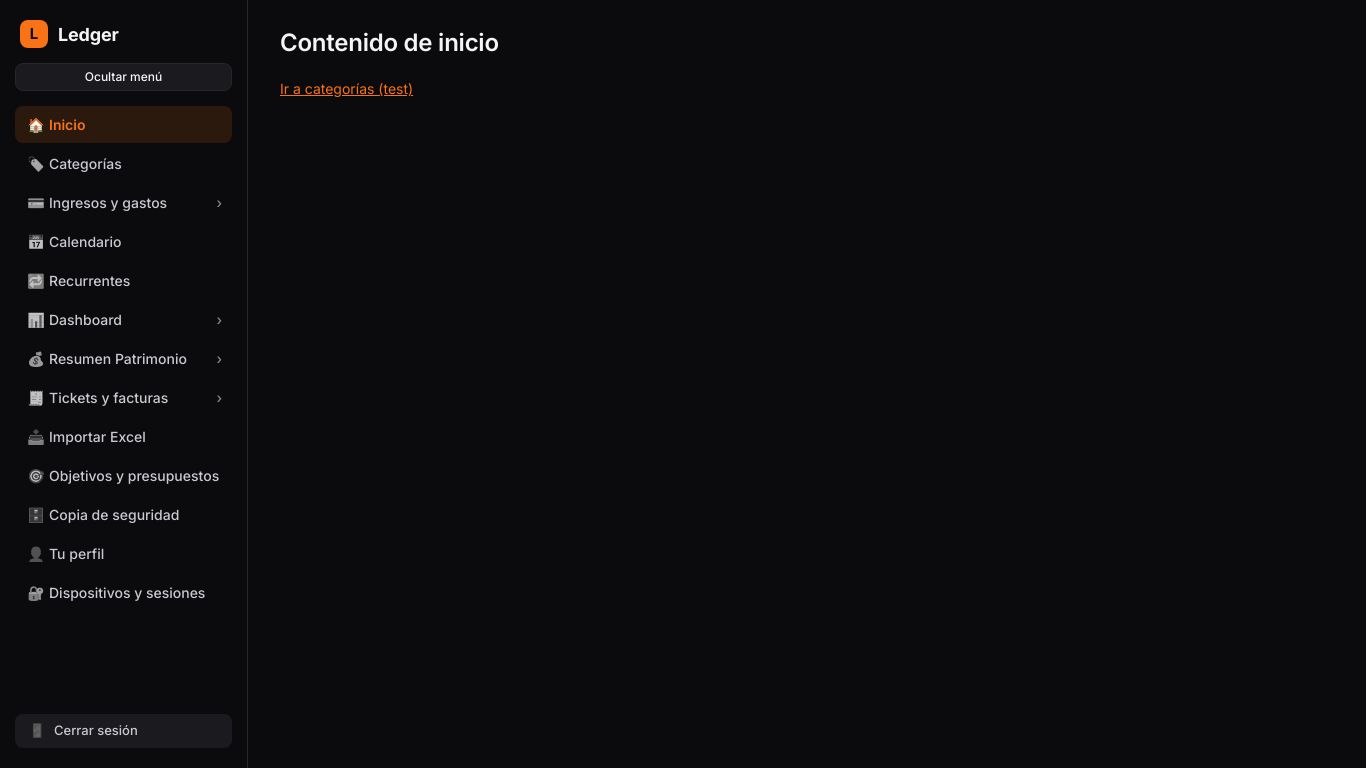
Test: AppLayout › el submenú se cierra al hacer clic fuera del menú o pulsar Escape
Click the link "💳 Ingresos y gastos ›" at (125, 203), box left=27, top=194, right=222, bottom=211
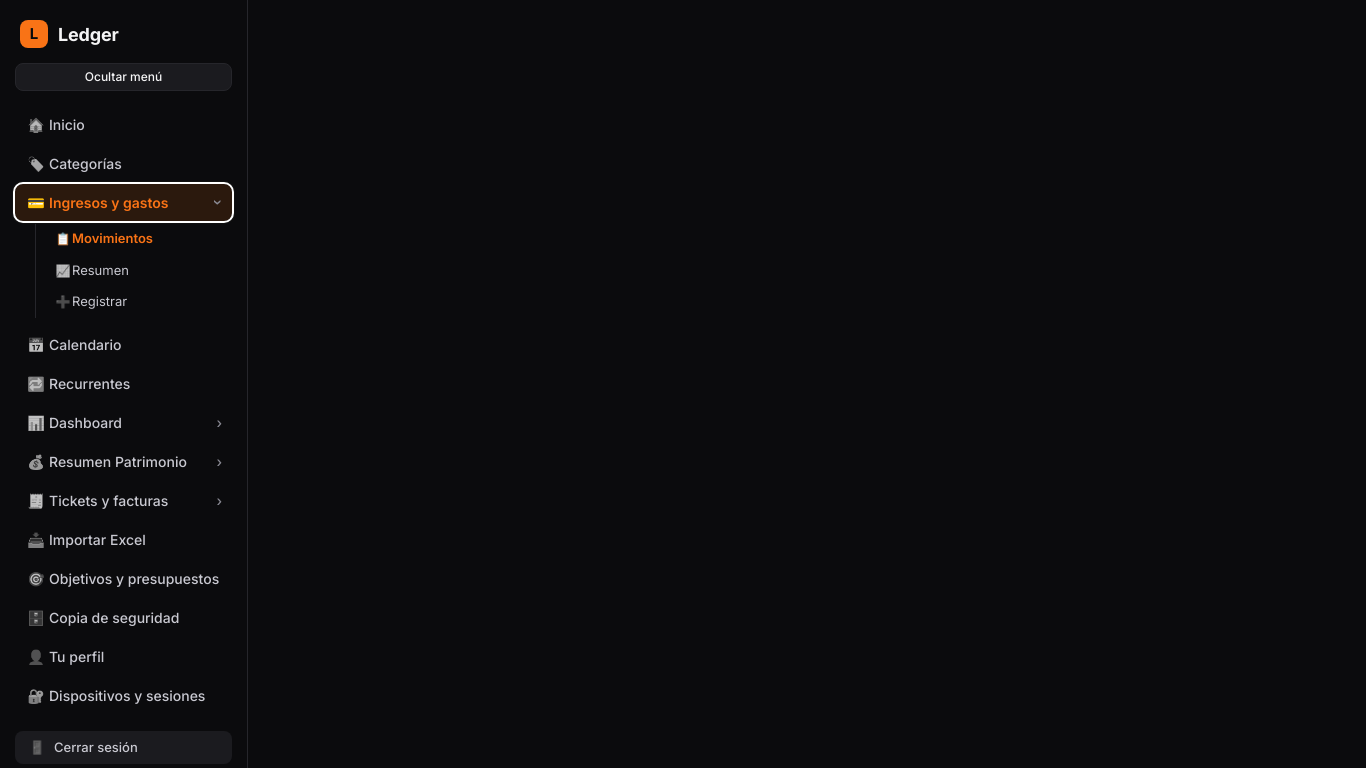
Check: the link "📋 Movimientos" is shown, box left=56, top=230, right=153, bottom=246
Click the element that starts with "Ledger" at (683, 384), box left=0, top=0, right=1365, bottom=767
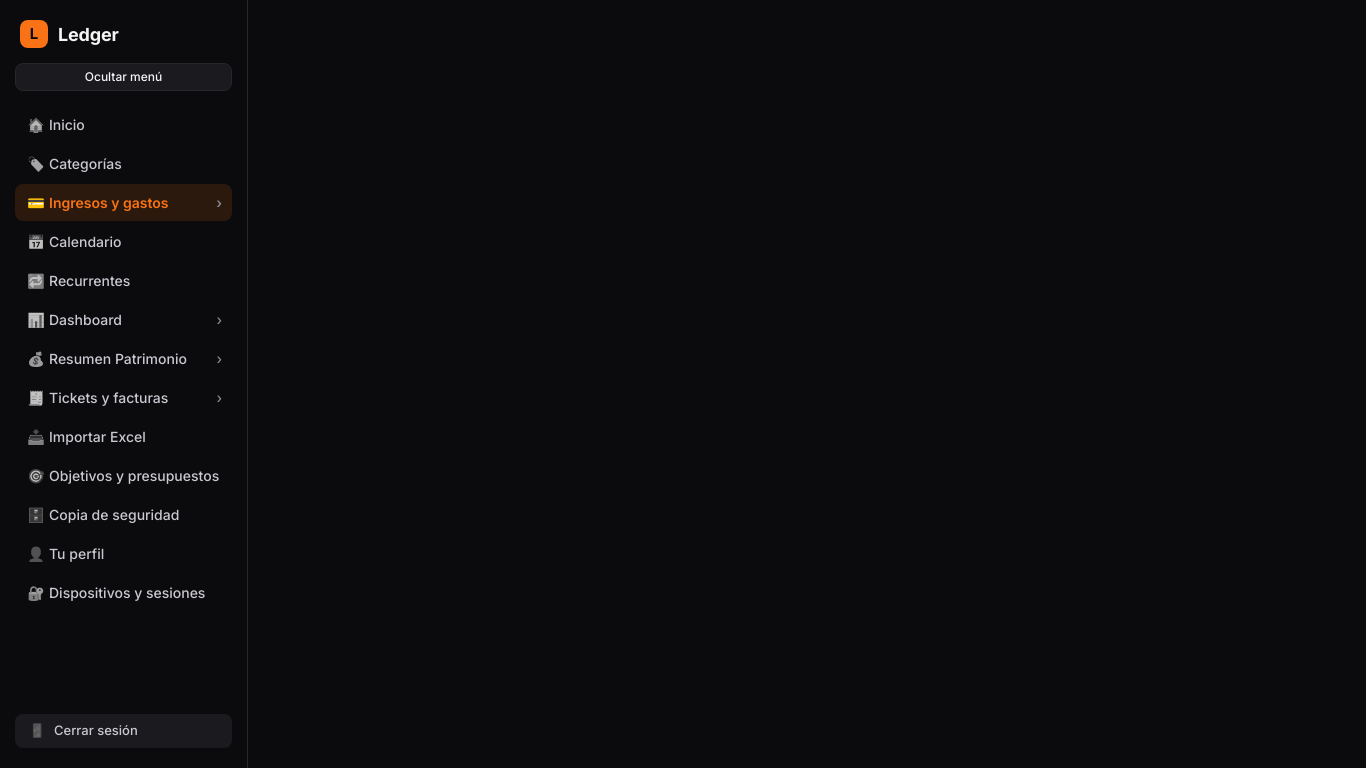
Check: the link "Movimientos" is gone
Click the link "💳 Ingresos y gastos ›" at (124, 203), box left=15, top=184, right=232, bottom=221
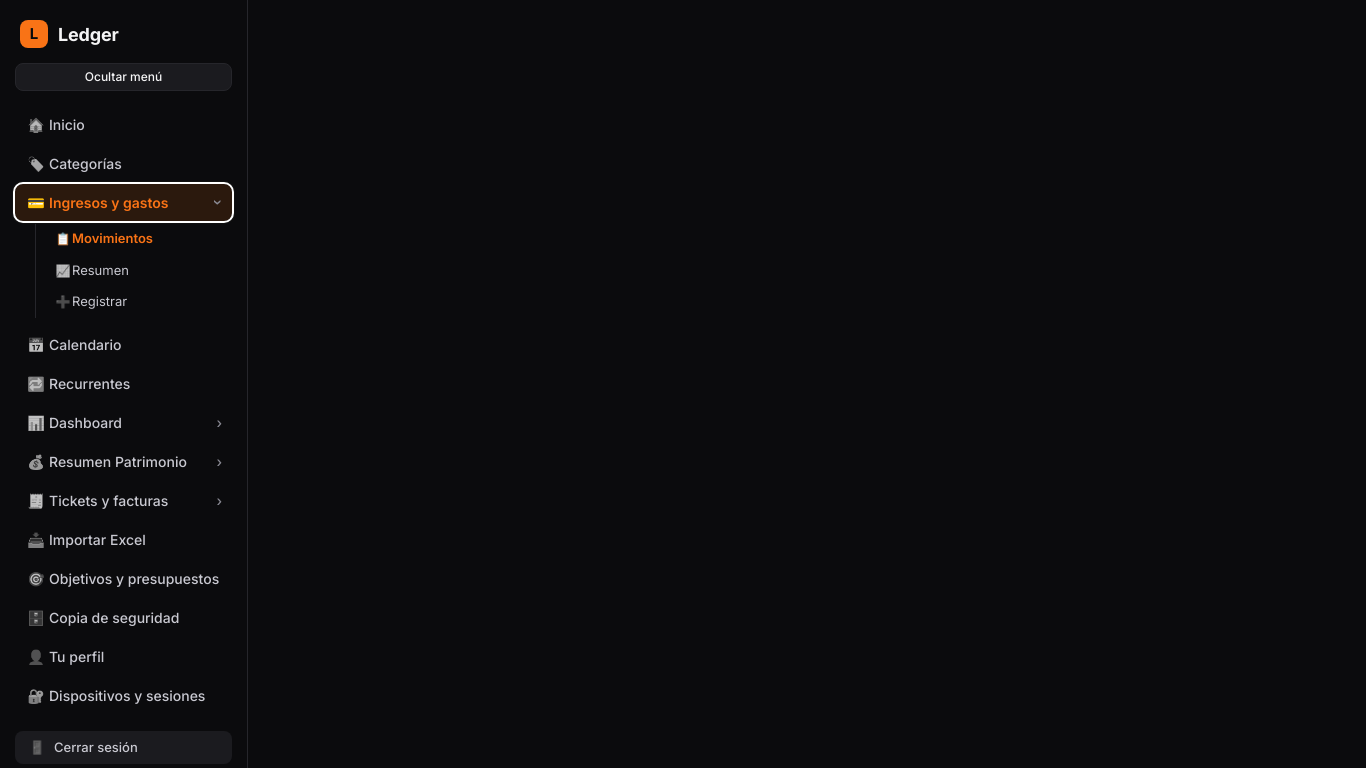
Check: the link "📋 Movimientos" is shown, box left=56, top=230, right=153, bottom=246
Press Escape
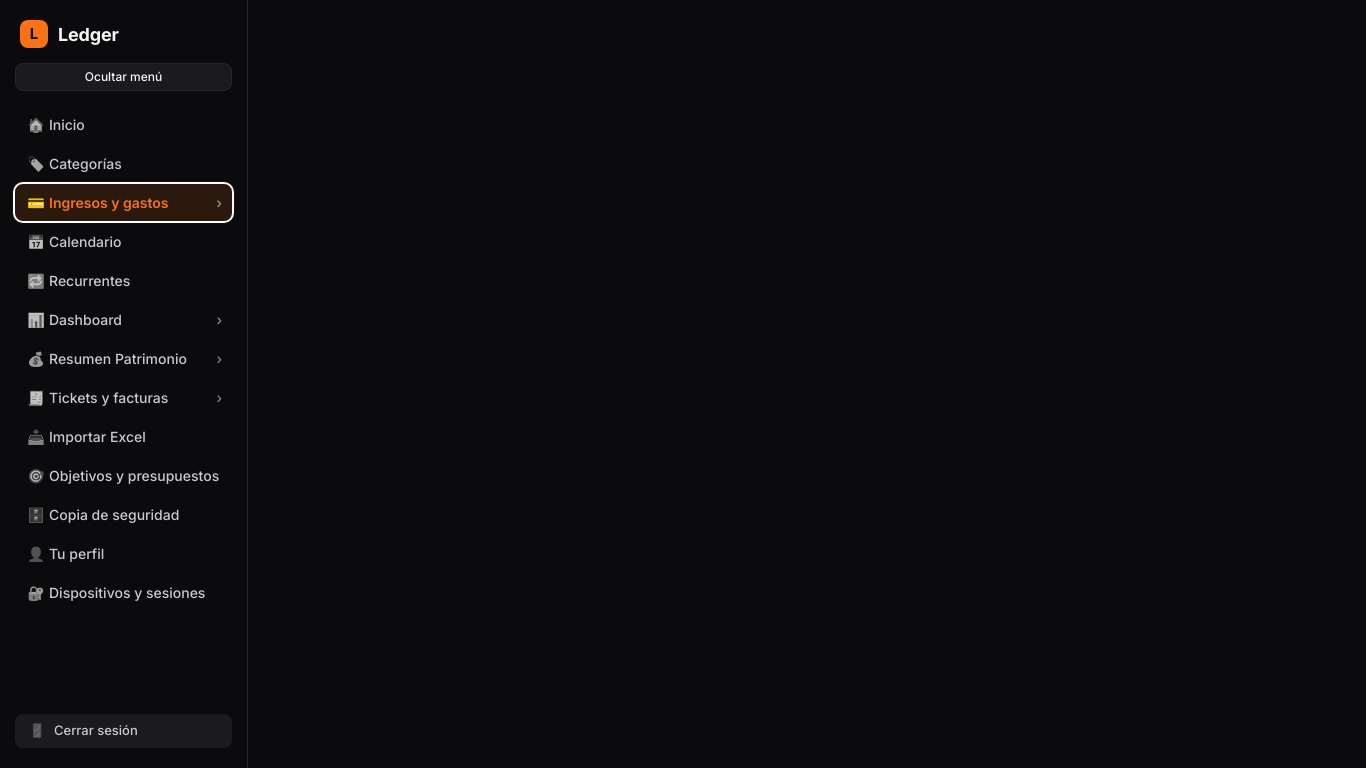
Check: the link "Movimientos" is gone
